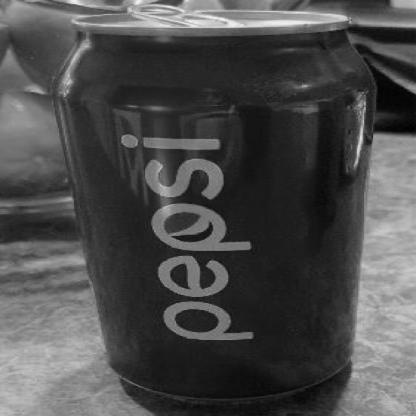alumunium_can: (48, 4, 378, 414)
